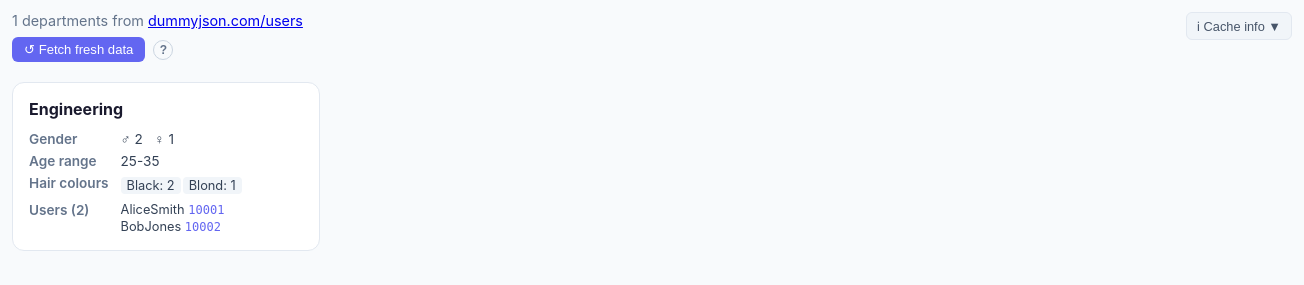
Test: UsersPage › shows non-cached meta info
Expected: the heading "Engineering" is shown, [29,99,123,119]
What coordinates should you click on to do the following:
click the button "ℹ Cache info ▼"
I would click on:
 (1239, 26)
Its box is [1186,12,1292,40].
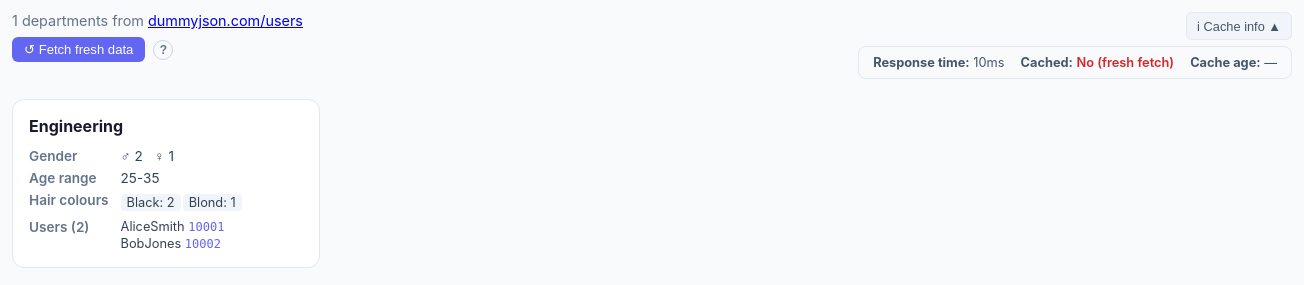
Expected: the text "No (fresh fetch)" is shown, [1076,55,1174,70]
